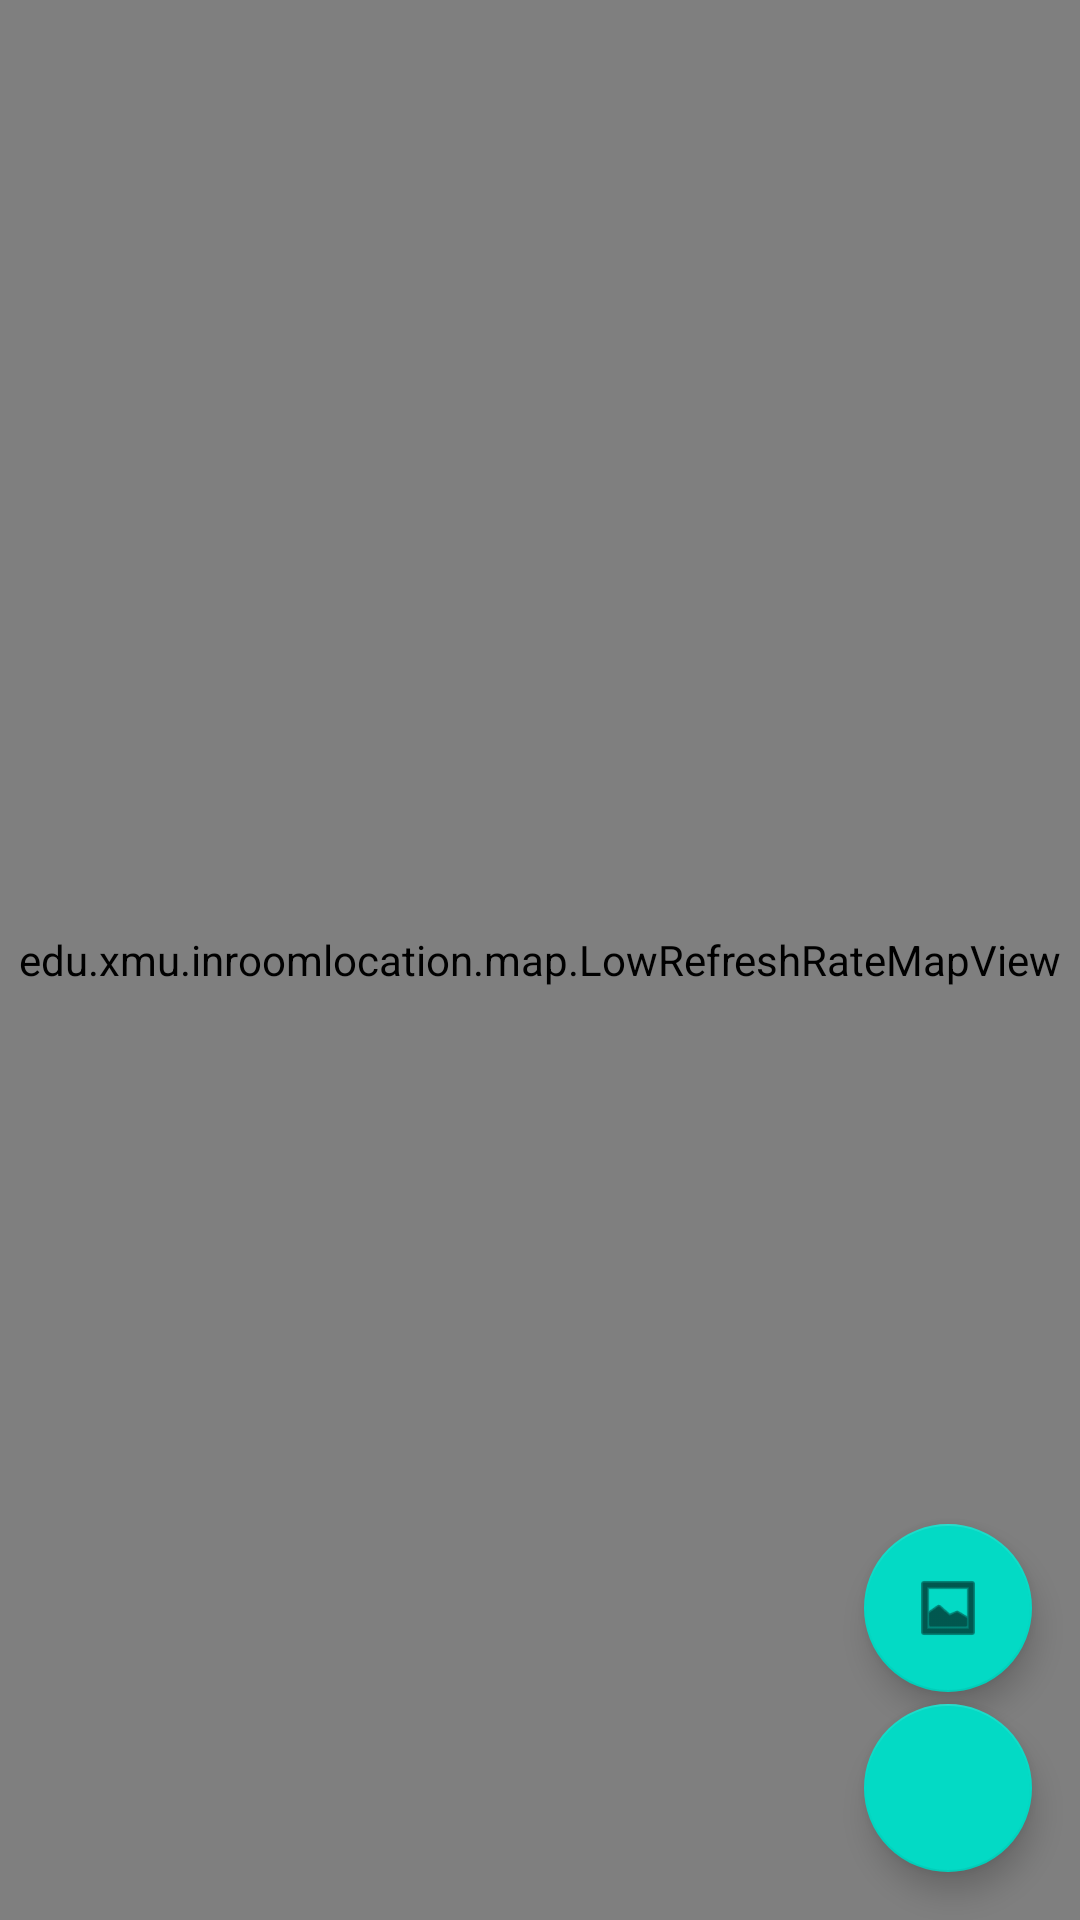

Named icons in this screenshot (1080px×1920px) and their centers, (x,y):
gallery: (948,1608)
